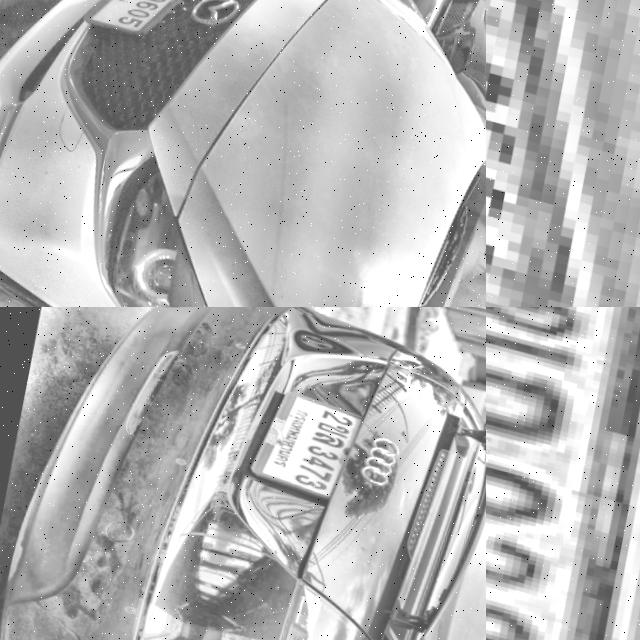license-plate: (486, 307, 640, 640), (486, 0, 640, 307), (244, 378, 371, 499), (76, 0, 210, 48)
